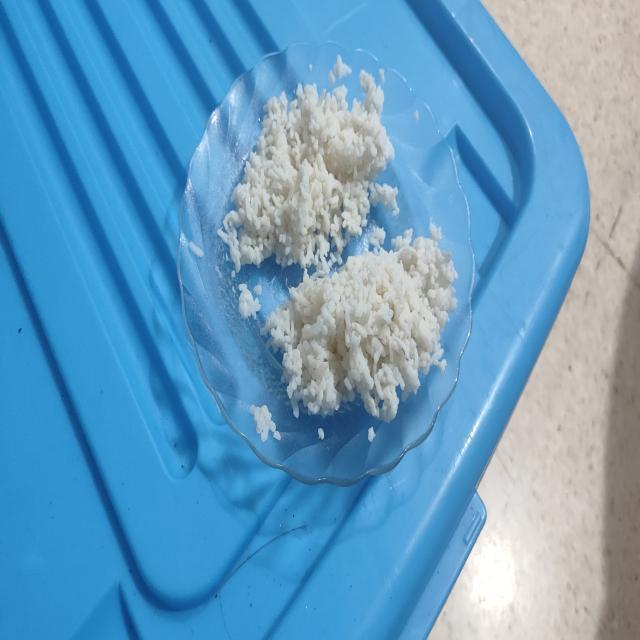nasi_putih: (261, 223, 457, 422), (218, 70, 399, 269)
